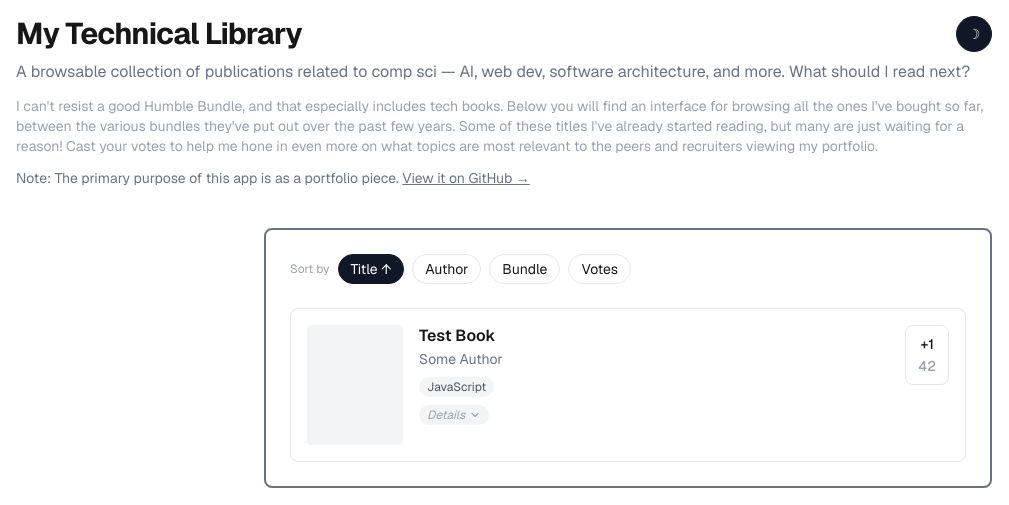
BookShelf › increments the vote count when +1 is clicked
expect the text "42" is shown: met, box [918,356,936,376]
Click the button "+1 42". click: (927, 355)
box: [905,325,949,385]
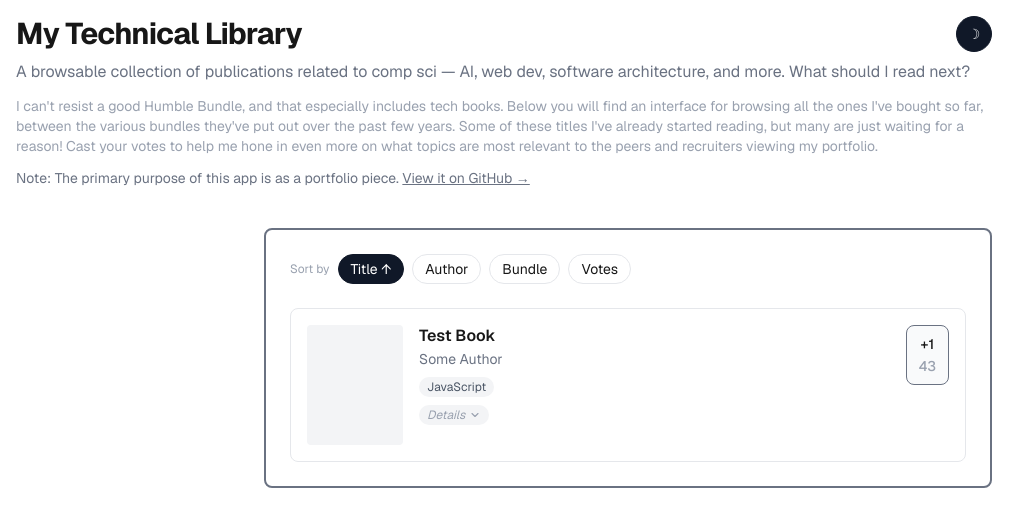
expect the text "43" is shown: met, box [919,356,936,376]
